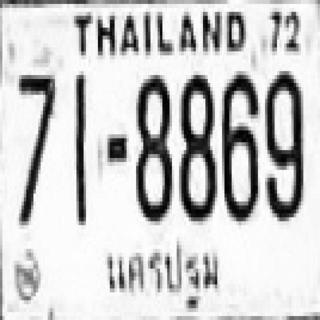N01: (72, 73, 86, 223)
N06: (221, 71, 257, 217)
N07: (17, 71, 55, 221)
N08: (177, 71, 215, 217), (134, 71, 170, 217)
N09: (263, 67, 301, 217)
P28: (99, 236, 231, 312)
